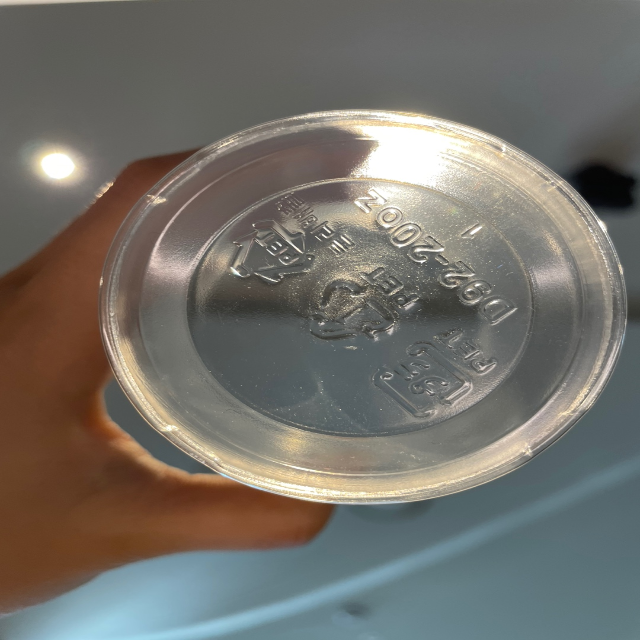pet: (220, 187, 355, 292), (373, 327, 501, 419), (313, 260, 419, 346)
